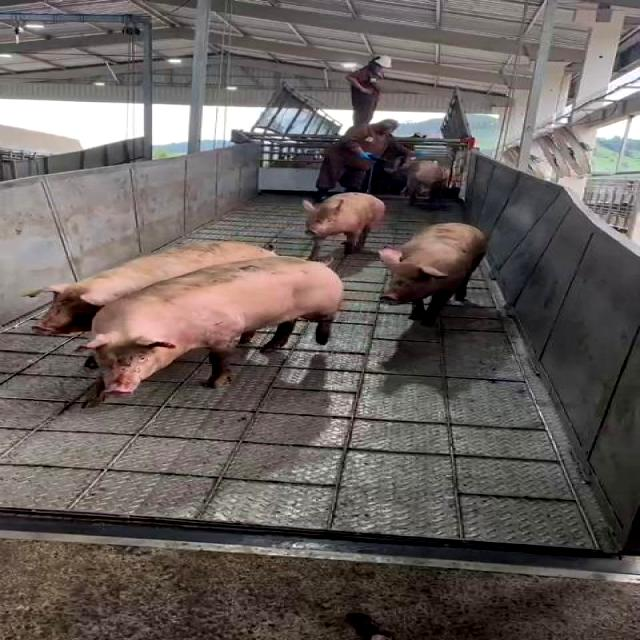pig: (81, 259, 342, 393), (35, 243, 275, 334), (380, 224, 488, 324), (304, 193, 384, 256)
